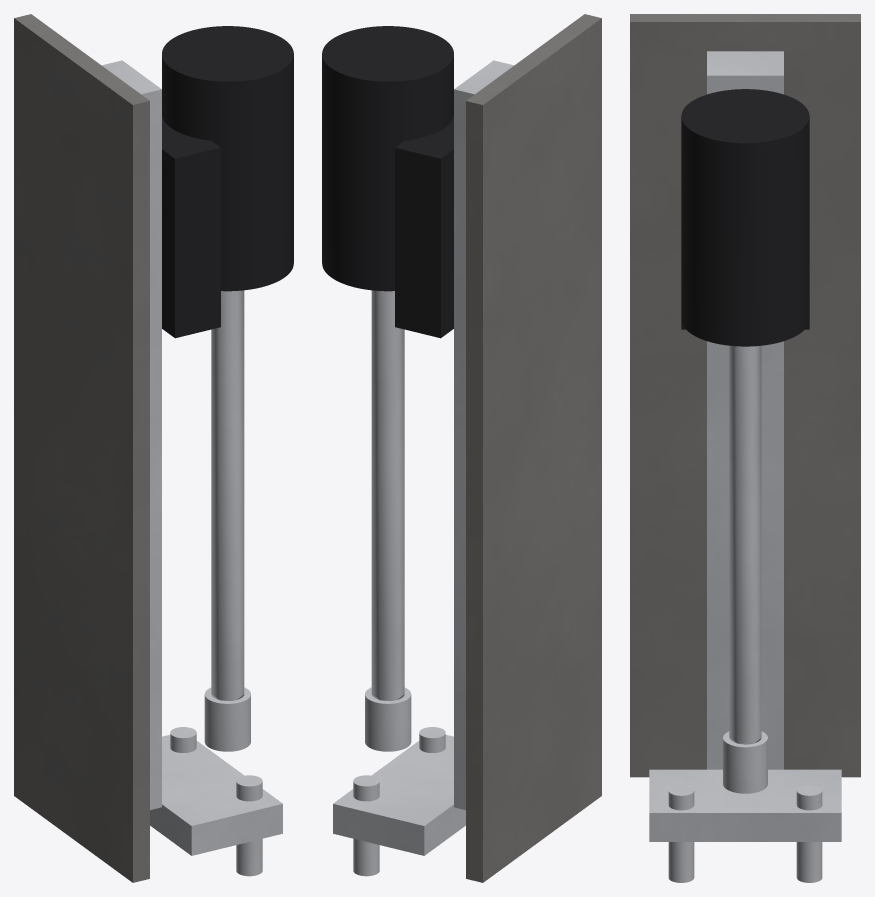
Rendered from rover05_core_drill.glb.
3 renders of one model, left to right at view 1: azimuth 30°, elevation 25°; view 2: azimuth 150°, elevation 25°; view 3: azimuth 270°, elevation 25°, orthographic. The views are drawn at different scales.
Parts seen in each view (by area): view 1: base_plate, carriage_motor, drill_string, stabilisers, guide_rail; view 2: base_plate, carriage_motor, drill_string, stabilisers, guide_rail; view 3: base_plate, carriage_motor, guide_rail, drill_string, stabilisers.
Boxes of the visible parts, bbox=[...] form: base_plate: bbox=[14, 14, 149, 882]; carriage_motor: bbox=[162, 26, 293, 338]; drill_string: bbox=[204, 290, 250, 751]; stabilisers: bbox=[150, 727, 282, 876]; guide_rail: bbox=[102, 60, 161, 809]; base_plate: bbox=[466, 14, 601, 882]; carriage_motor: bbox=[322, 26, 453, 338]; drill_string: bbox=[365, 290, 411, 751]; stabilisers: bbox=[333, 727, 465, 876]; guide_rail: bbox=[454, 60, 513, 809]; base_plate: bbox=[630, 14, 860, 777]; carriage_motor: bbox=[681, 89, 809, 346]; guide_rail: bbox=[707, 51, 783, 769]; drill_string: bbox=[723, 345, 767, 793]; stabilisers: bbox=[649, 769, 841, 882].
Size of the model in its own units: 0.37 by 1.37 by 0.36.
3 materials, 2 textured.
